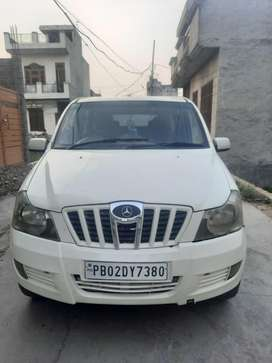PB02DY7380: (85, 262, 168, 279)
